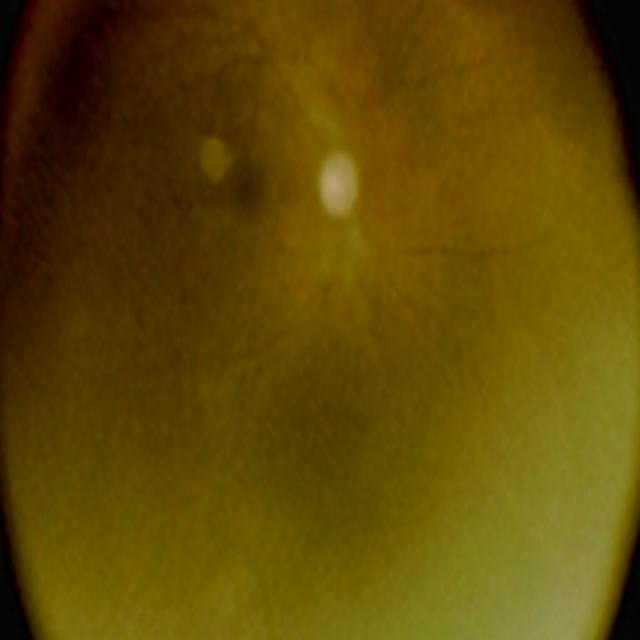optic-nerve: (302, 122, 382, 252)
